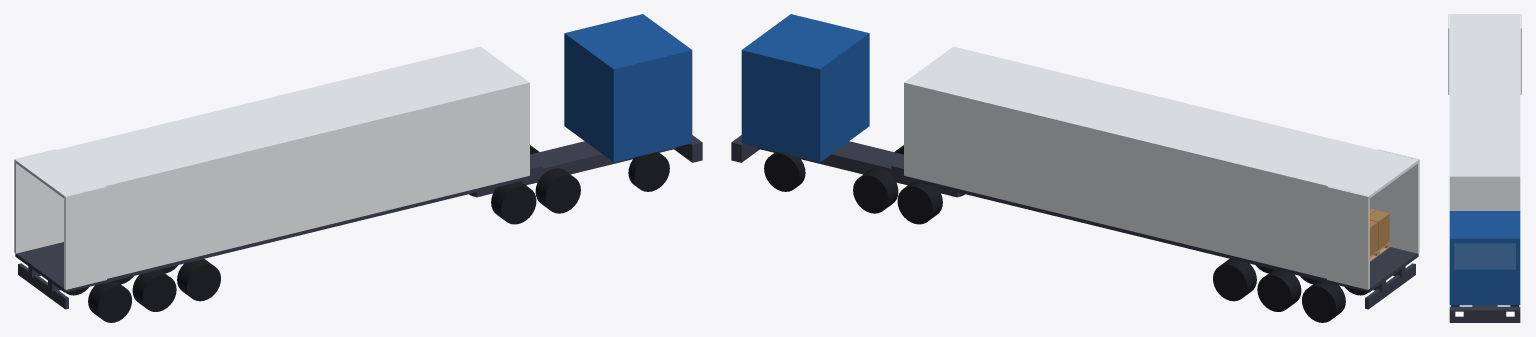
The model's file is ind-015.glb.
The picture shows the model from 3 angles, left to right: view 1: azimuth 30°, elevation 25°; view 2: azimuth 150°, elevation 25°; view 3: azimuth 270°, elevation 25°; orthographic projection. The views are drawn at different scales.
Visible parts, largest first — view 1: white, airline_blue, rubber, dark_steel; view 2: white, airline_blue, rubber, dark_steel, cardboard; view 3: white, airline_blue, glass_clear, dark_steel, display_white.
Part boxes in pixels (x1,y1,x2,y2): white: (14, 46, 529, 289); airline_blue: (564, 14, 692, 162); rubber: (66, 145, 669, 322); dark_steel: (15, 135, 702, 309); white: (904, 46, 1419, 289); airline_blue: (741, 14, 869, 162); rubber: (764, 145, 1367, 322); dark_steel: (731, 135, 1418, 309); cardboard: (1370, 208, 1389, 255); white: (1448, 14, 1521, 210); airline_blue: (1449, 211, 1520, 305); glass_clear: (1454, 244, 1515, 268); dark_steel: (1449, 305, 1520, 322); display_white: (1455, 311, 1514, 316).
Size of the model in its own units: 18.67 by 3.9 by 2.61.
